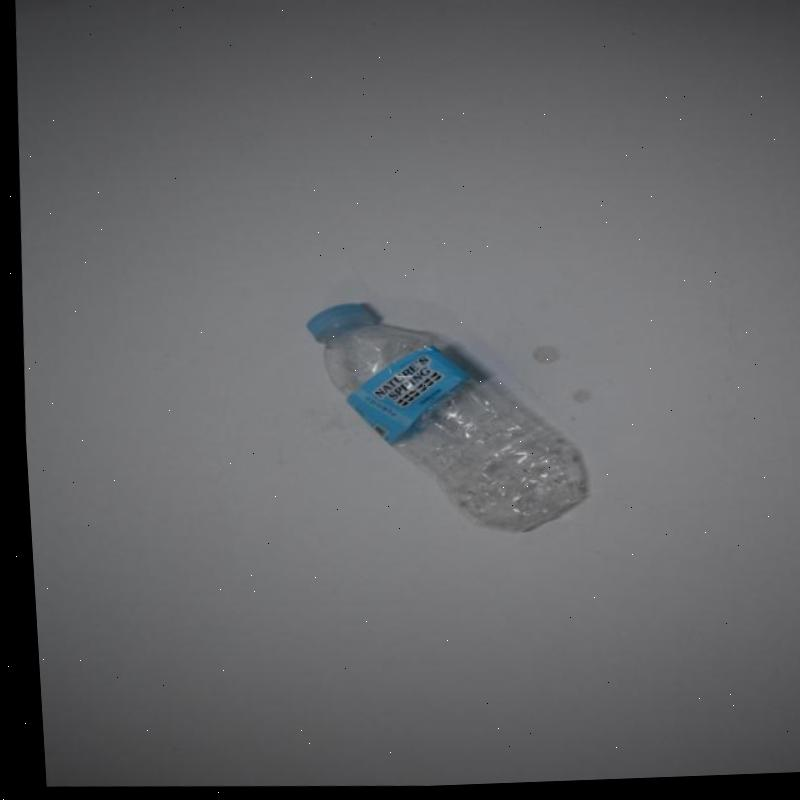botella: (293, 297, 584, 544)
